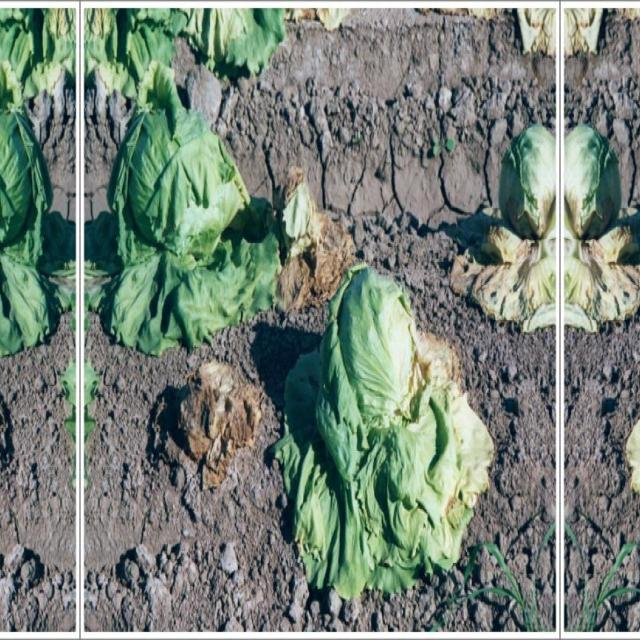healthy: (276, 260, 482, 598), (92, 73, 276, 341), (458, 120, 560, 334), (0, 73, 68, 341), (560, 120, 640, 333), (172, 351, 262, 495), (638, 260, 640, 598)
